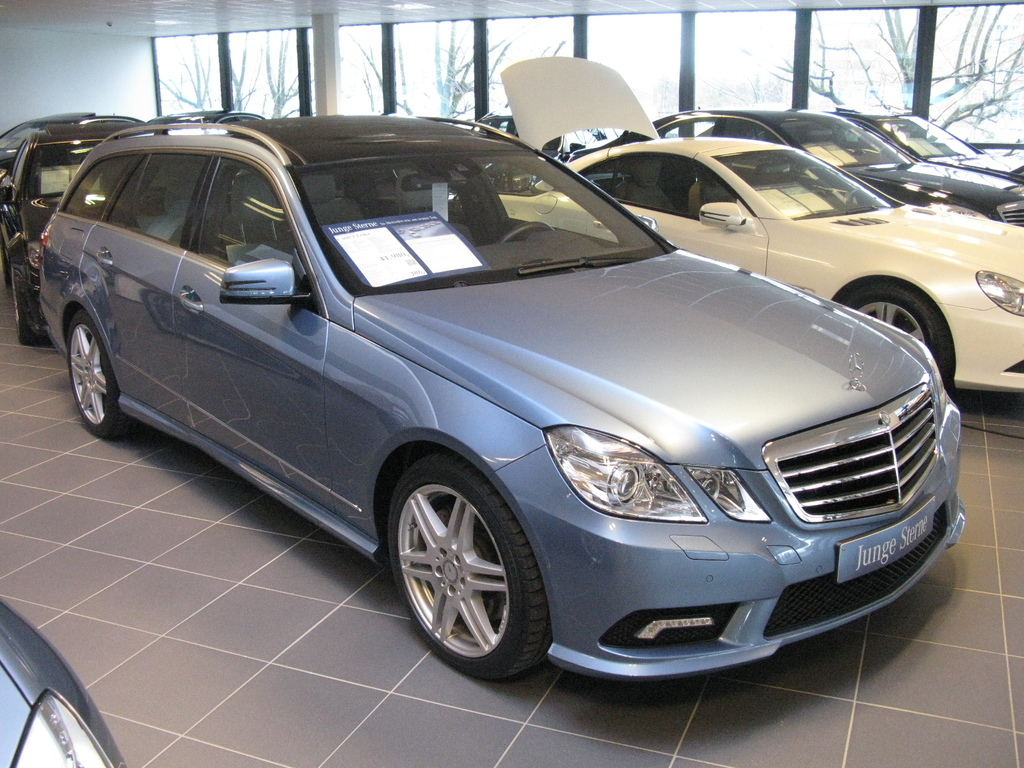car: (31, 87, 983, 693), (494, 65, 1024, 426), (677, 92, 1024, 240)
